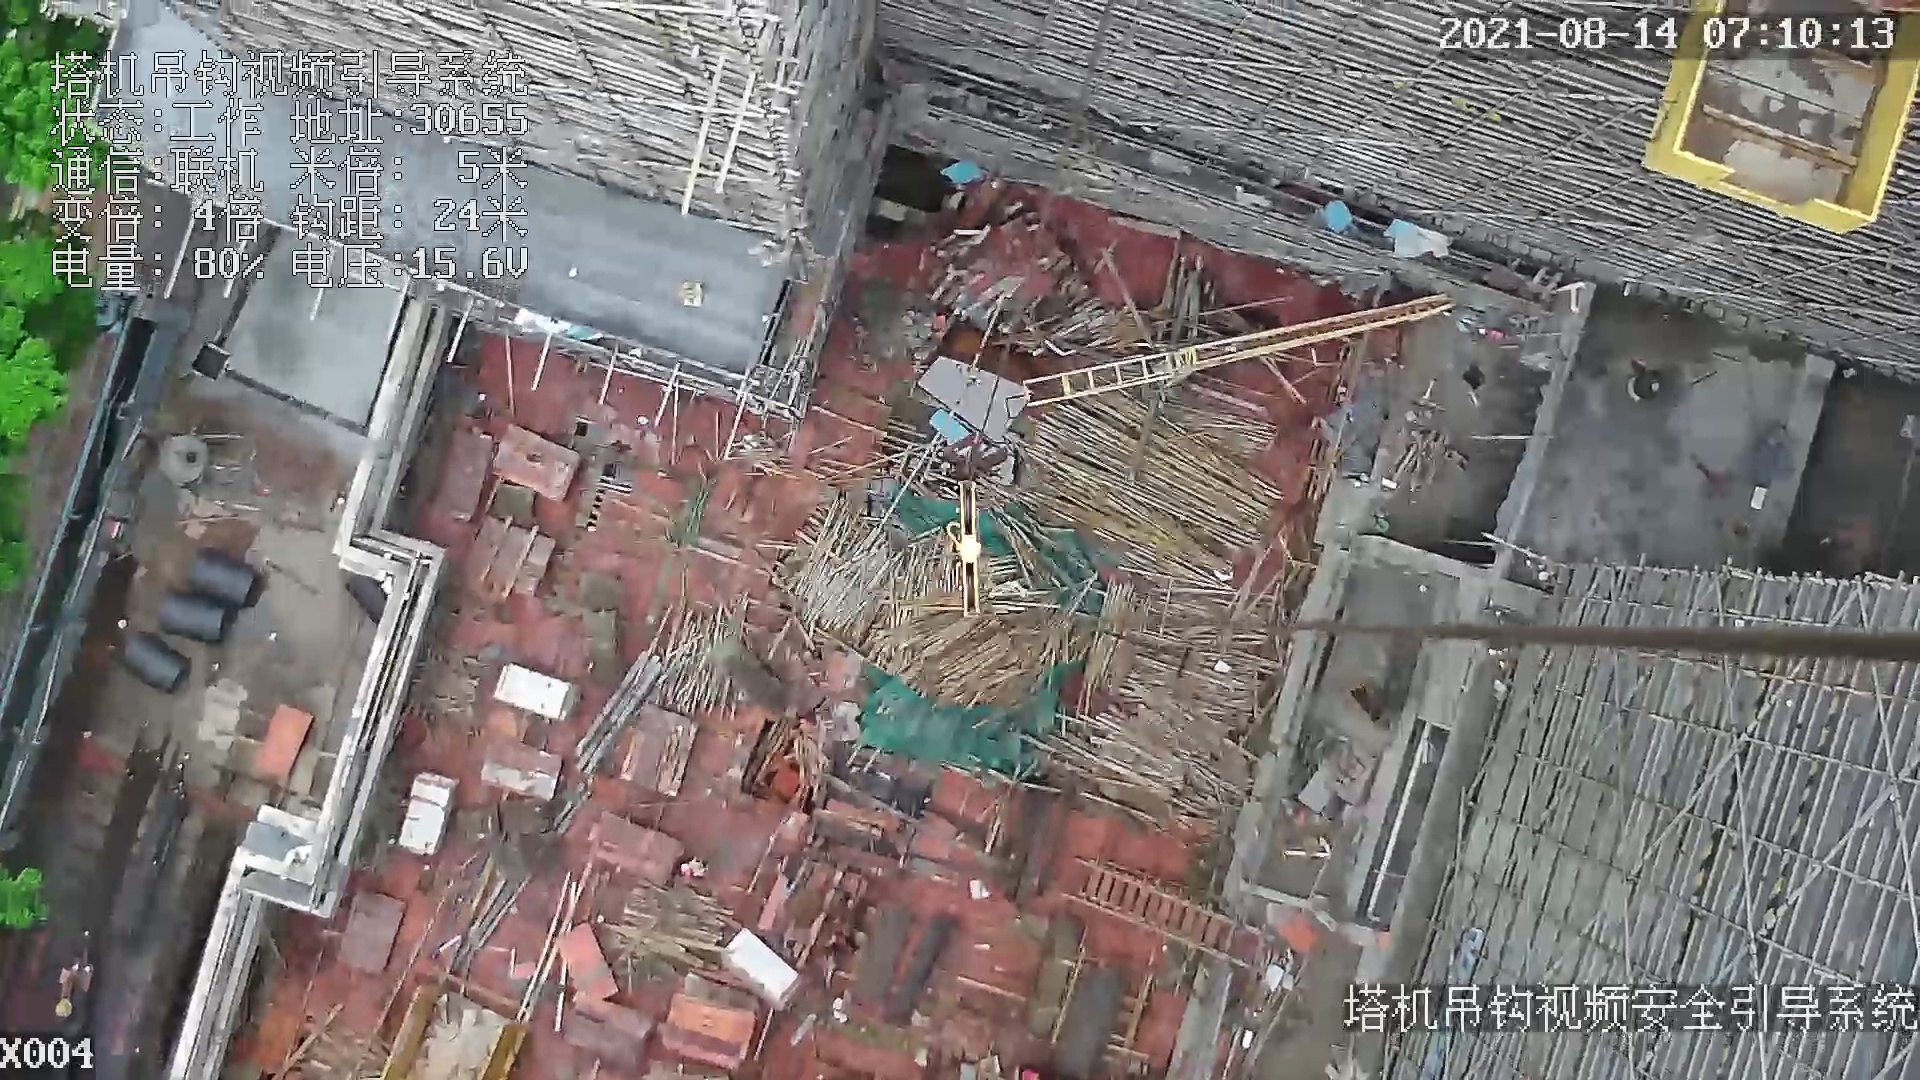hook: (944, 473, 991, 626)
person: (681, 855, 713, 880)
